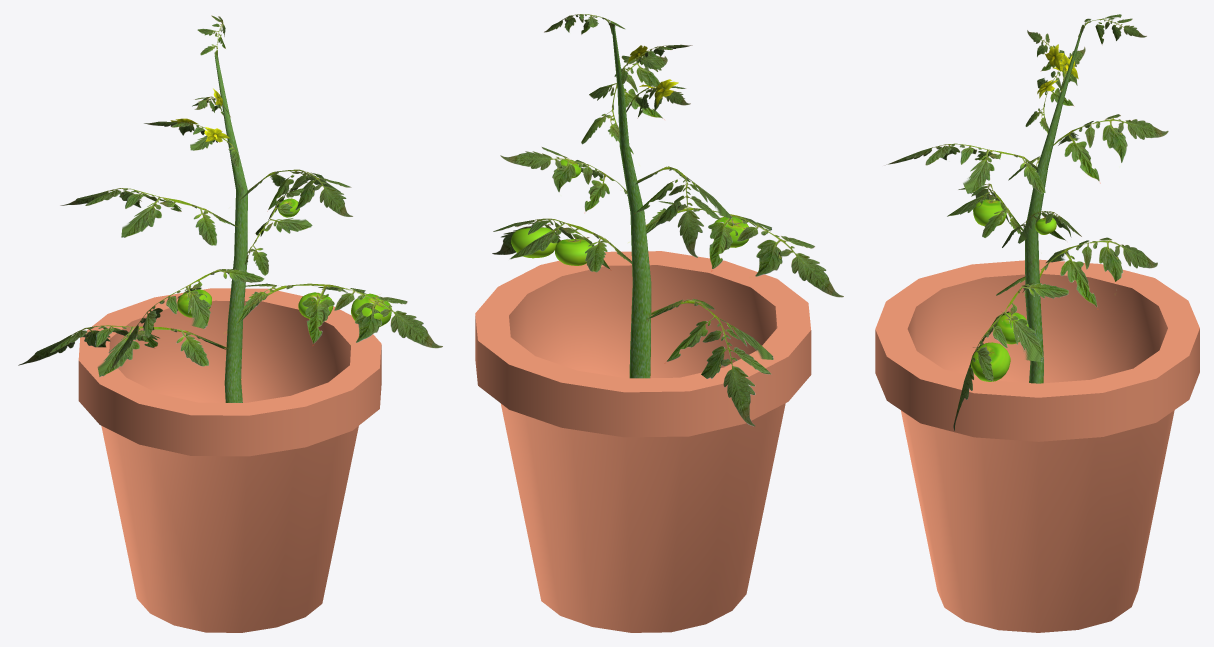
File: baby-tomato-plant.glb
The picture shows the model from 3 angles, left to right: view 1: azimuth 30°, elevation 25°; view 2: azimuth 150°, elevation 25°; view 3: azimuth 270°, elevation 25°; orthographic projection. The views are drawn at different scales.
Parts seen in each view (by area): view 1: 4-bis.002, tomato-plant.001; view 2: 4-bis.002, tomato-plant.001; view 3: 4-bis.002, tomato-plant.001.
Part boxes in pixels (x1=…): 4-bis.002: x1=78, y1=288, x2=381, y2=632; tomato-plant.001: x1=18, y1=15, x2=442, y2=402; 4-bis.002: x1=475, y1=251, x2=811, y2=632; tomato-plant.001: x1=492, y1=14, x2=843, y2=426; 4-bis.002: x1=875, y1=259, x2=1199, y2=632; tomato-plant.001: x1=887, y1=14, x2=1168, y2=430.
Size of the model in its own units: 3.81 by 5.89 by 2.96.
2 materials, 2 textured.
